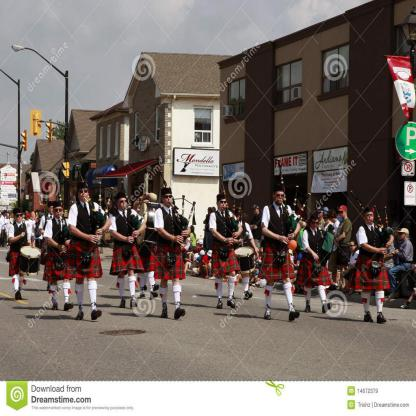face: (276, 192, 285, 205), (80, 189, 89, 201), (55, 207, 64, 218), (164, 194, 172, 206), (119, 199, 127, 211), (220, 199, 227, 211), (367, 213, 375, 223), (312, 219, 319, 229), (237, 210, 244, 220), (16, 213, 23, 222), (350, 243, 356, 252), (340, 211, 346, 219), (50, 206, 55, 215), (400, 232, 405, 240), (325, 219, 329, 225), (254, 209, 258, 215), (298, 201, 301, 208), (319, 216, 323, 221), (331, 218, 334, 223), (209, 210, 212, 214), (7, 215, 10, 219), (106, 200, 108, 204), (27, 216, 29, 220), (198, 244, 200, 247), (3, 214, 5, 217), (33, 213, 34, 216)
